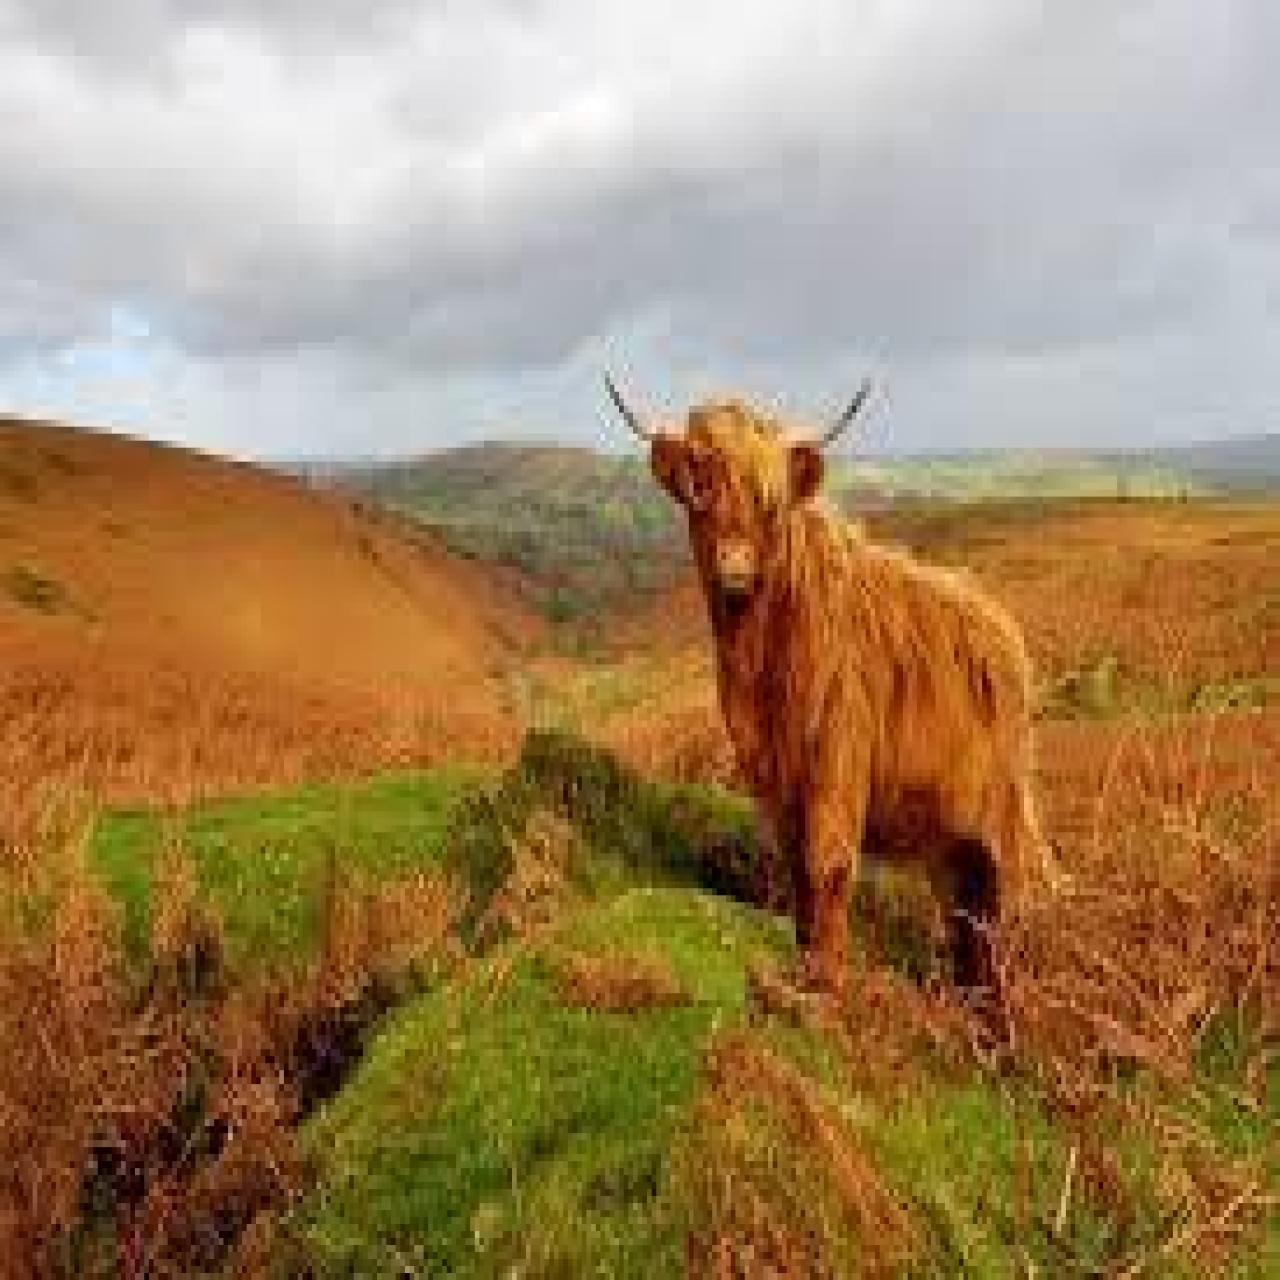cow: (602, 356, 1032, 993)
